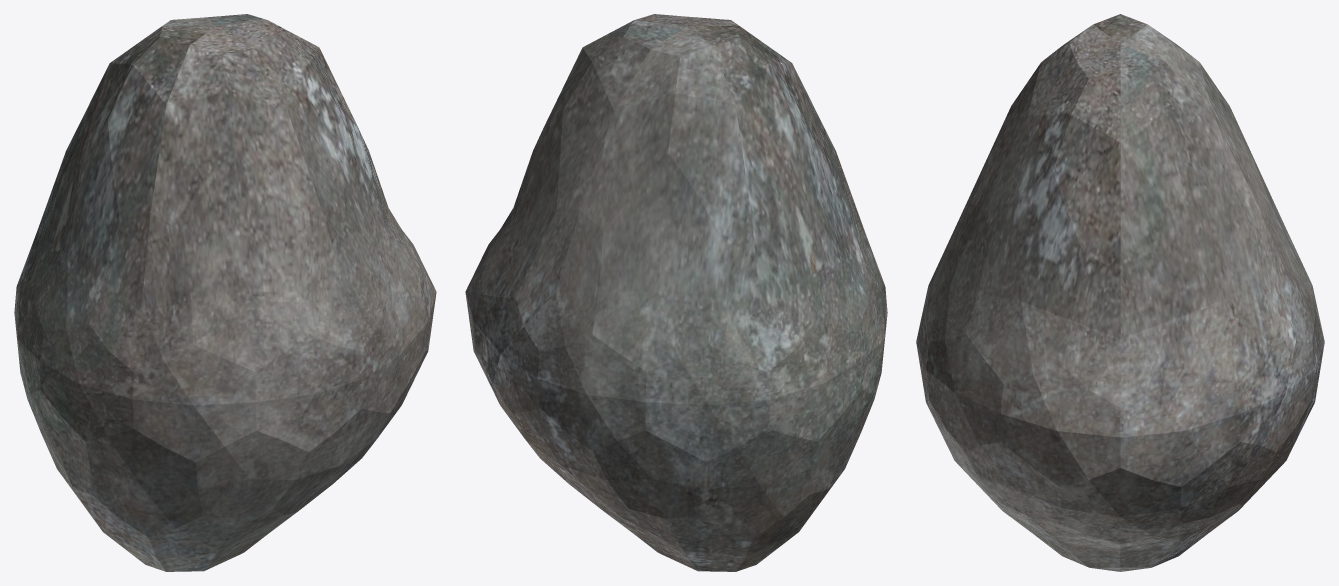
Rendered from FakeItemStone2PrehistoricPuzzle1.fbx.
3 views of the same model, side by side, from view 1: azimuth 30°, elevation 25°; view 2: azimuth 150°, elevation 25°; view 3: azimuth 270°, elevation 25° (orthographic).
Visible parts, largest first — view 1: fake stone 2; view 2: fake stone 2; view 3: fake stone 2.
Boxes of the visible parts, x1,y1,x2,y2 form: fake stone 2: (14, 14, 436, 571); fake stone 2: (465, 14, 887, 571); fake stone 2: (916, 14, 1324, 571).
Bounding box in the file's own units: 85.49 × 115 × 78.9.
1 material, 1 textured.
